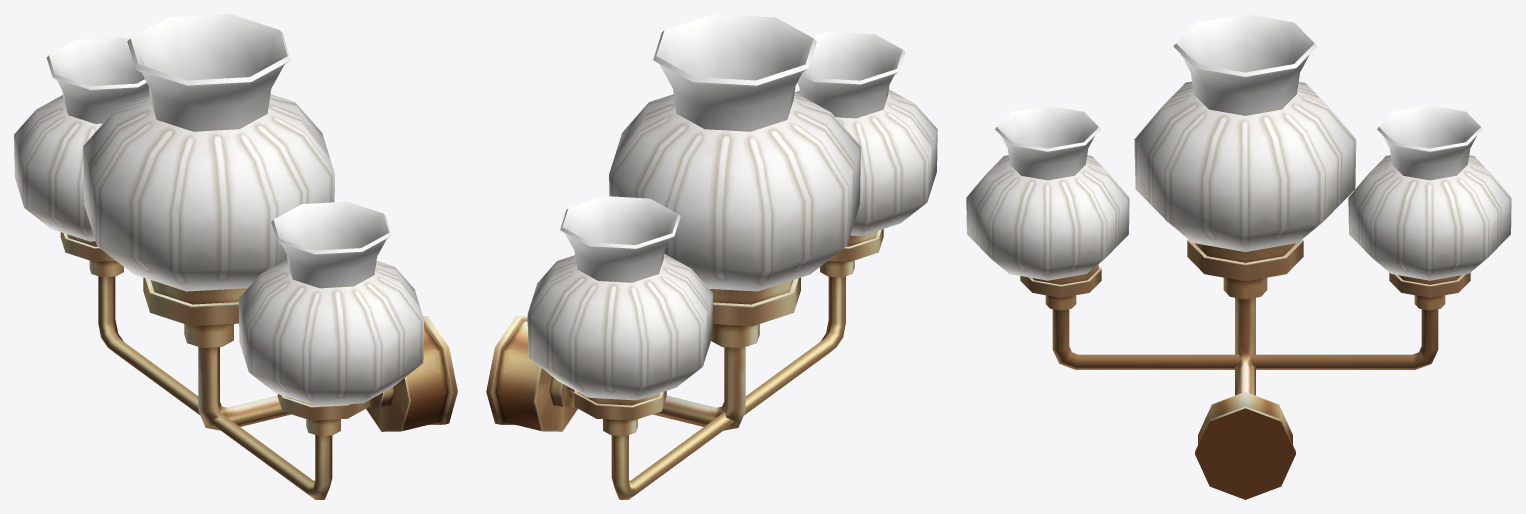
File: my_sunshineresort_01_lamp_02.glb
3 views of the same model, side by side, from view 1: azimuth 30°, elevation 25°; view 2: azimuth 150°, elevation 25°; view 3: azimuth 270°, elevation 25° (orthographic). The views are drawn at different scales.
Visible parts, largest first — view 1: my_sunshineresort_01_lamp_02; view 2: my_sunshineresort_01_lamp_02; view 3: my_sunshineresort_01_lamp_02.
Boxes of the visible parts, x1,y1,x2,y2 form: my_sunshineresort_01_lamp_02: (14, 14, 457, 499); my_sunshineresort_01_lamp_02: (486, 14, 937, 499); my_sunshineresort_01_lamp_02: (966, 14, 1511, 499).
Bounding box in the file's own units: 0.00347 × 0.00429 × 0.0058.
3 materials, 3 textured.
